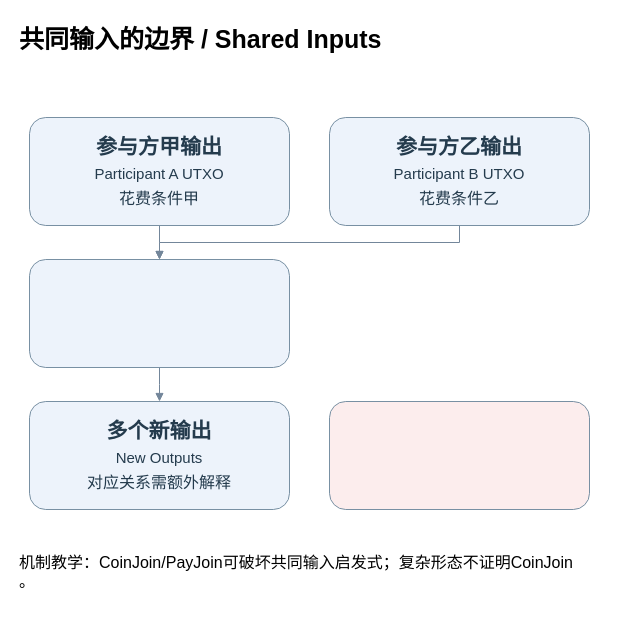
Image size: 618x633. Some labels were removed from this diagram. The shapes that lost their labels are listed below. From the top down, each one's centre as x and y in pixels, then its label:
At [159,313]: "协作构造交易 Collaborative Transaction 各自授权输入".
At [459,455]: "共同主人？ Common Owner? 不能由多输入自动证明".
